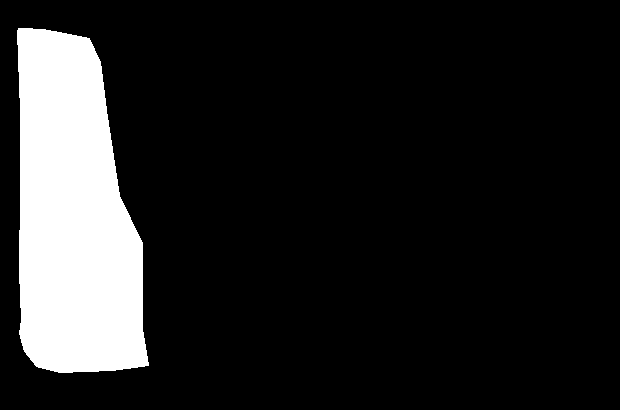type5: (15, 24, 154, 376)
